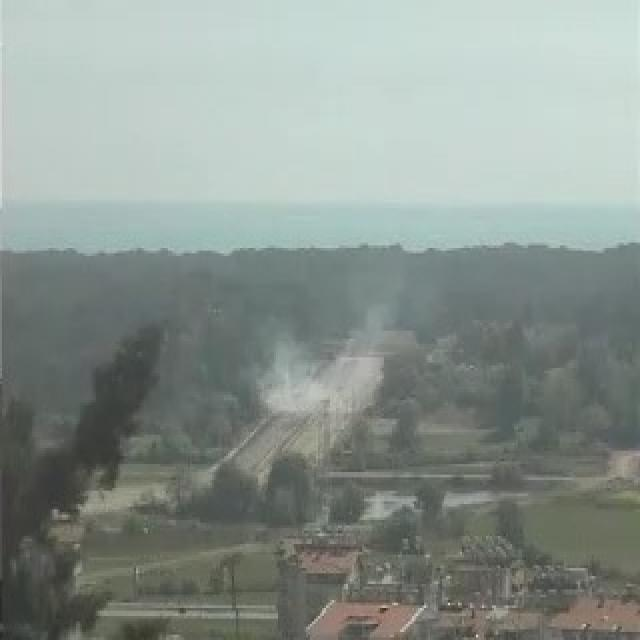smoke: (263, 320, 368, 413)
